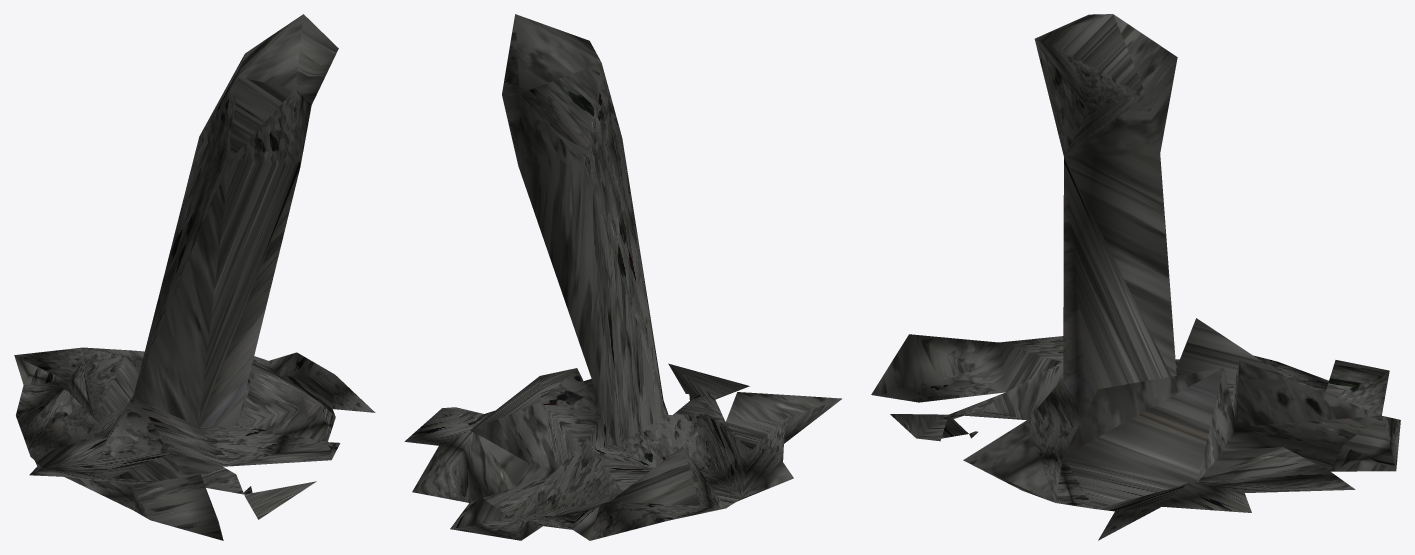
The model's file is Fallen_Pillar.glb.
3 views of the same model, side by side, from view 1: azimuth 30°, elevation 25°; view 2: azimuth 150°, elevation 25°; view 3: azimuth 270°, elevation 25° (orthographic). The views are drawn at different scales.
Parts seen in each view (by area): view 1: Fallen_Pillar; view 2: Fallen_Pillar; view 3: Fallen_Pillar.
Boxes of the visible parts, left/top/right/bottom form: Fallen_Pillar: left=14, top=14, right=375, bottom=540; Fallen_Pillar: left=404, top=14, right=841, bottom=540; Fallen_Pillar: left=871, top=14, right=1400, bottom=540.
Bounding box in the file's own units: 1.36 × 1.56 × 1.54.
Materials: 1 (1 with a texture image).
